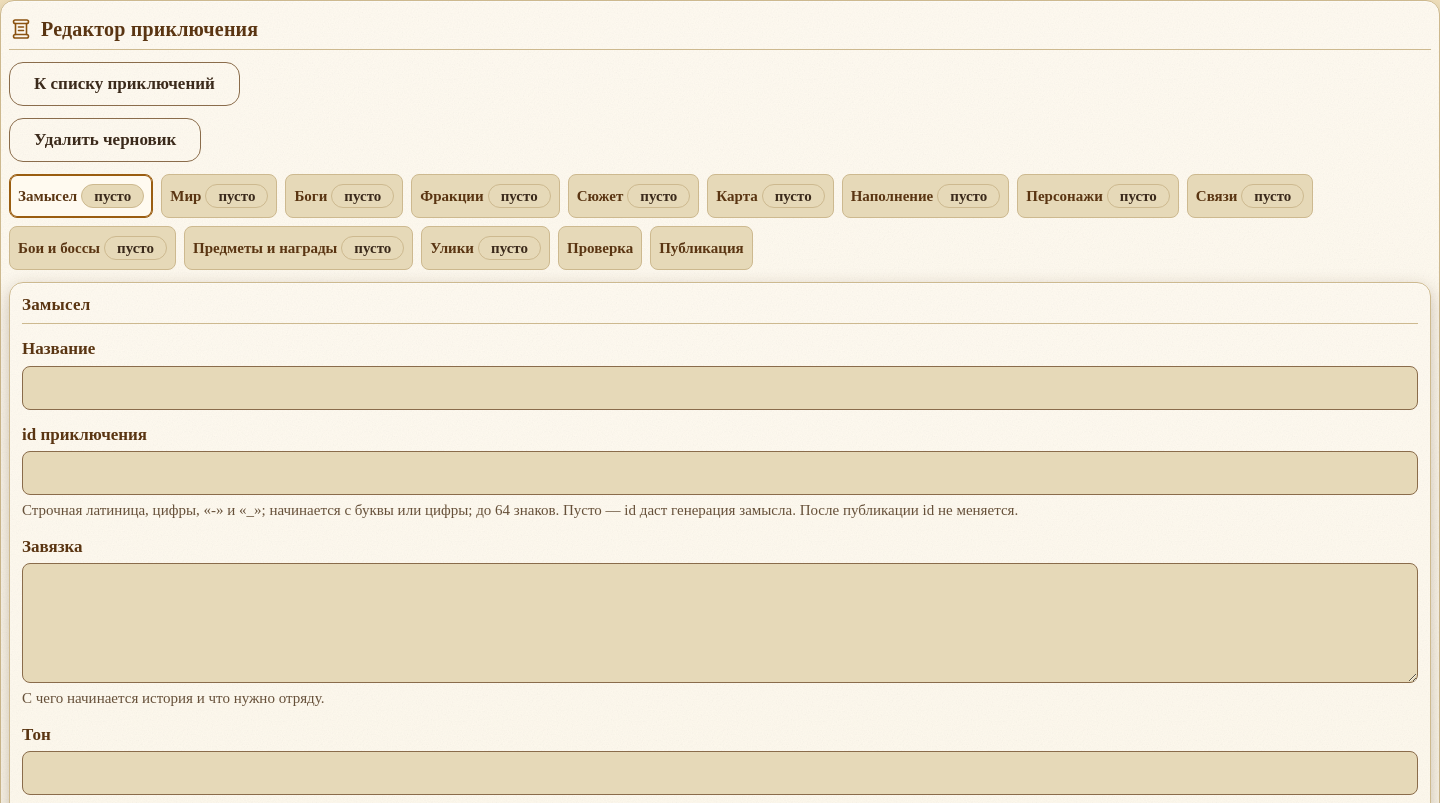
экран «Проверка» › нет находок — «Ошибок нет» и «Предупреждений нет»
What coordinates should you click on to do the following:
click the button "Проверка"
I would click on:
 (600, 248)
Its box is top-left (558, 226), bottom-right (642, 270).
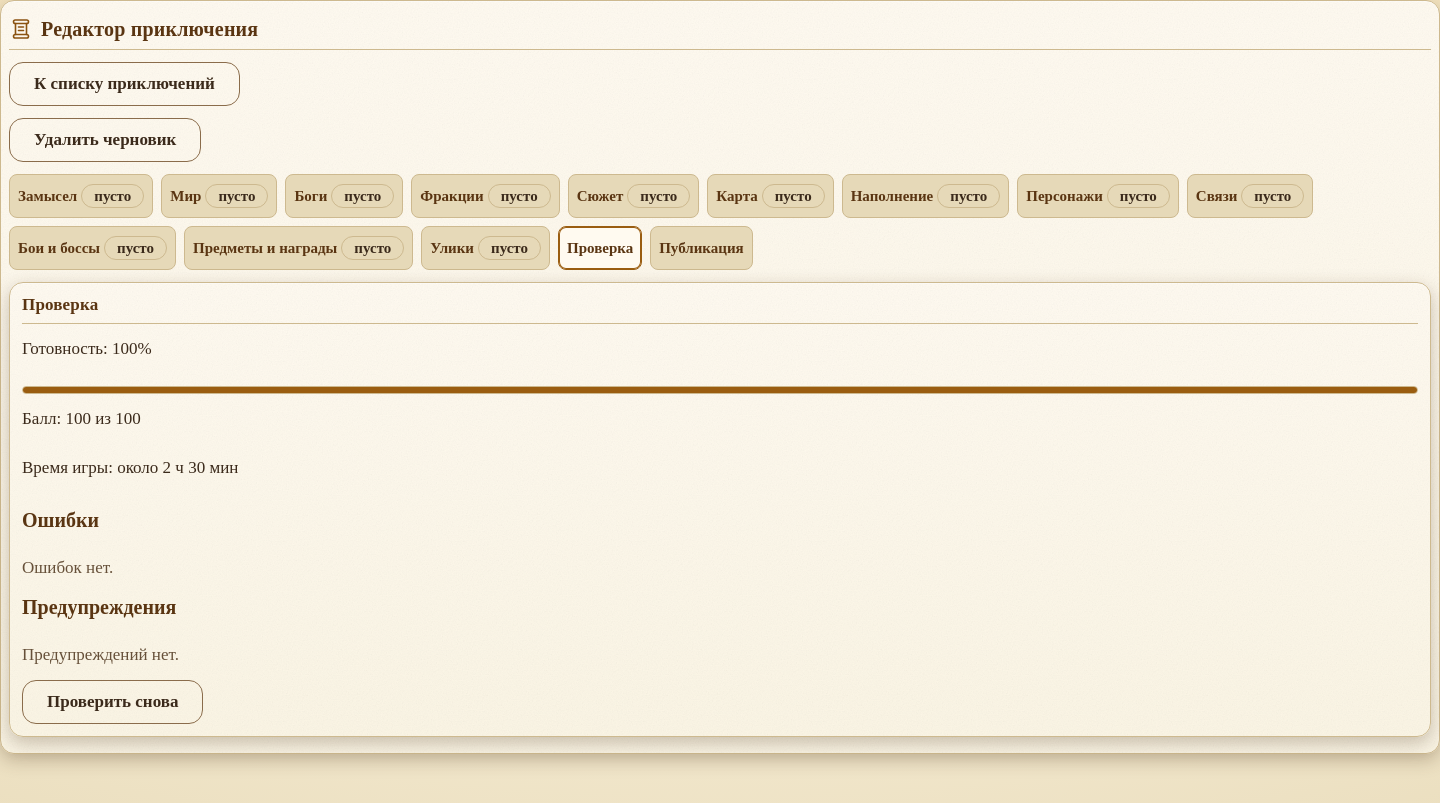
Expected: the text "Ошибок нет." is shown, top-left (22, 558), bottom-right (113, 577)
Expected: the text "Предупреждений нет." is shown, top-left (22, 645), bottom-right (179, 664)
Expected: the element "Проверка" shows "Время игры: около 2 ч 30 мин", top-left (9, 282), bottom-right (1431, 737)
